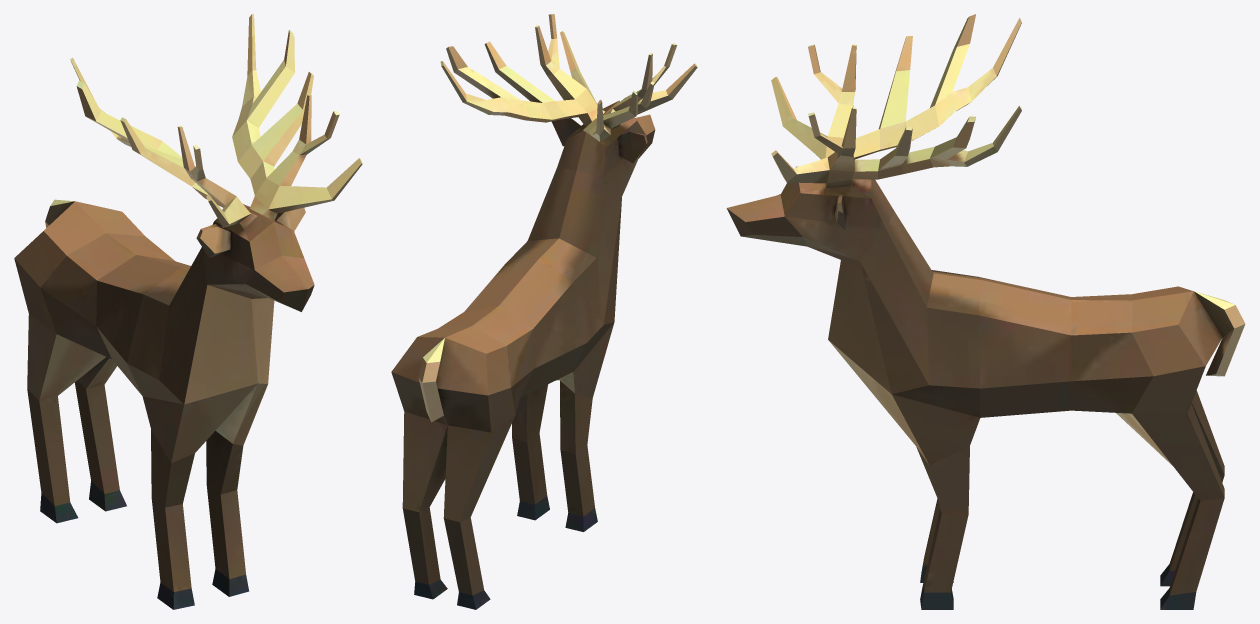
Rendered from animals-deer-063.glb.
3 renders of one model, left to right at view 1: azimuth 30°, elevation 25°; view 2: azimuth 150°, elevation 25°; view 3: azimuth 270°, elevation 25°, orthographic. The views are drawn at different scales.
Visible parts, largest first — view 1: deer; view 2: deer; view 3: deer.
Part boxes in pixels (x1,y1,x2,y2): deer: (14, 14, 362, 609); deer: (391, 14, 697, 609); deer: (726, 14, 1245, 609).
Size of the model in its own units: 0.8652 by 2.02 by 1.79.
Materials: 1 (1 with a texture image).
